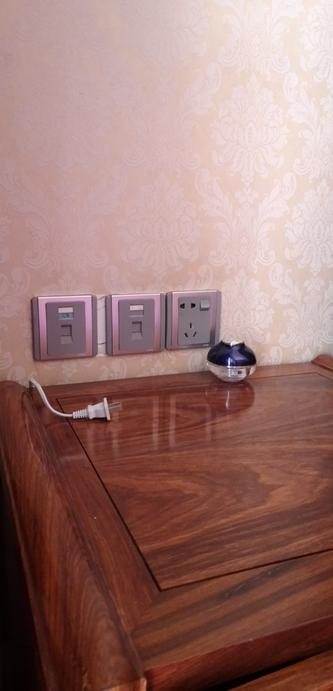switch: (196, 298, 213, 313)
